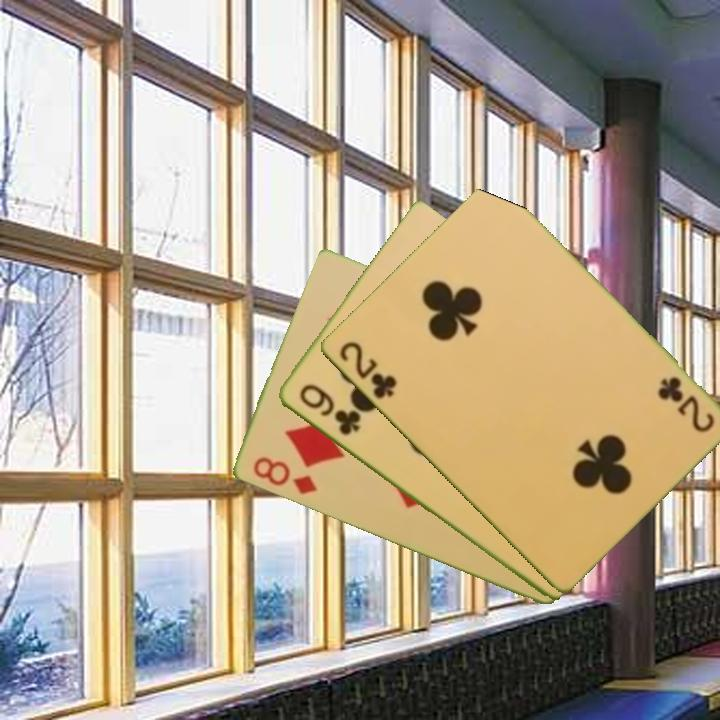2c: (335, 338, 400, 402), (654, 372, 717, 436)
8d: (249, 453, 320, 498)
9c: (295, 380, 363, 439)
